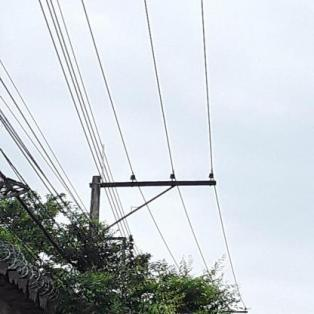Poste: (87, 174, 101, 241)
